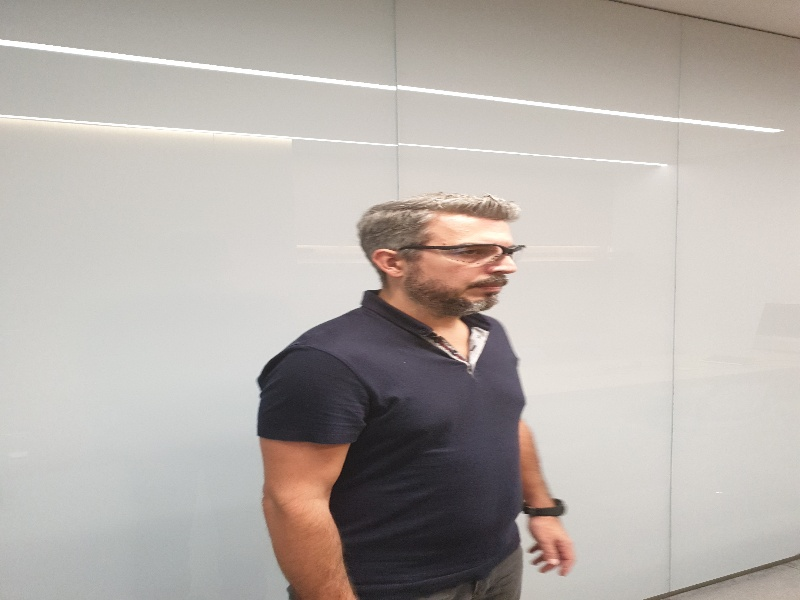Gozluk: (390, 242, 525, 264)
